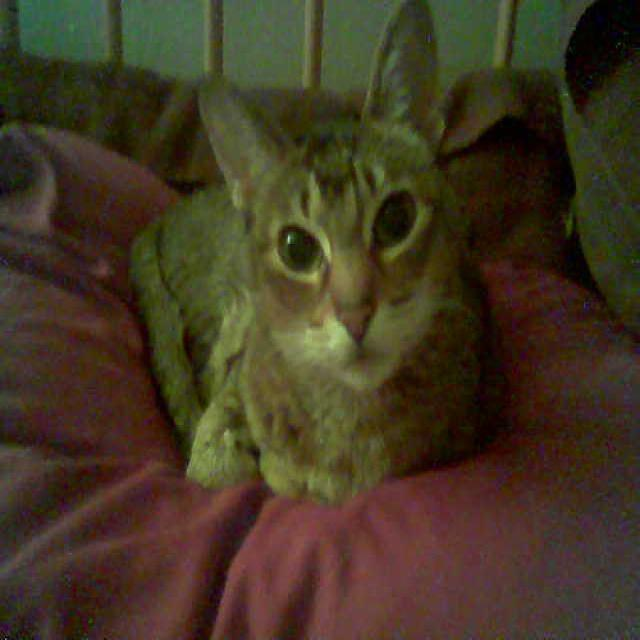Abyssinian: (196, 0, 443, 393)
